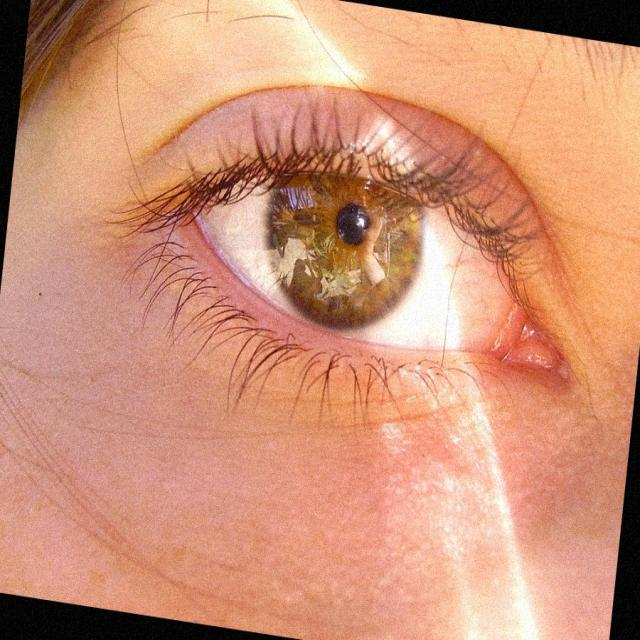Healthy-Eye: (134, 59, 600, 454)
